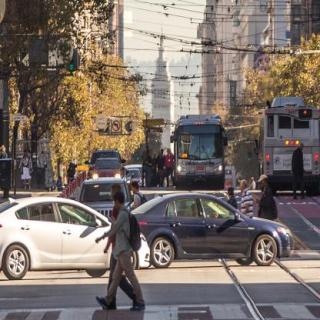Normal_vehicle: (133, 192, 294, 268), (0, 196, 110, 279), (170, 115, 227, 188)
